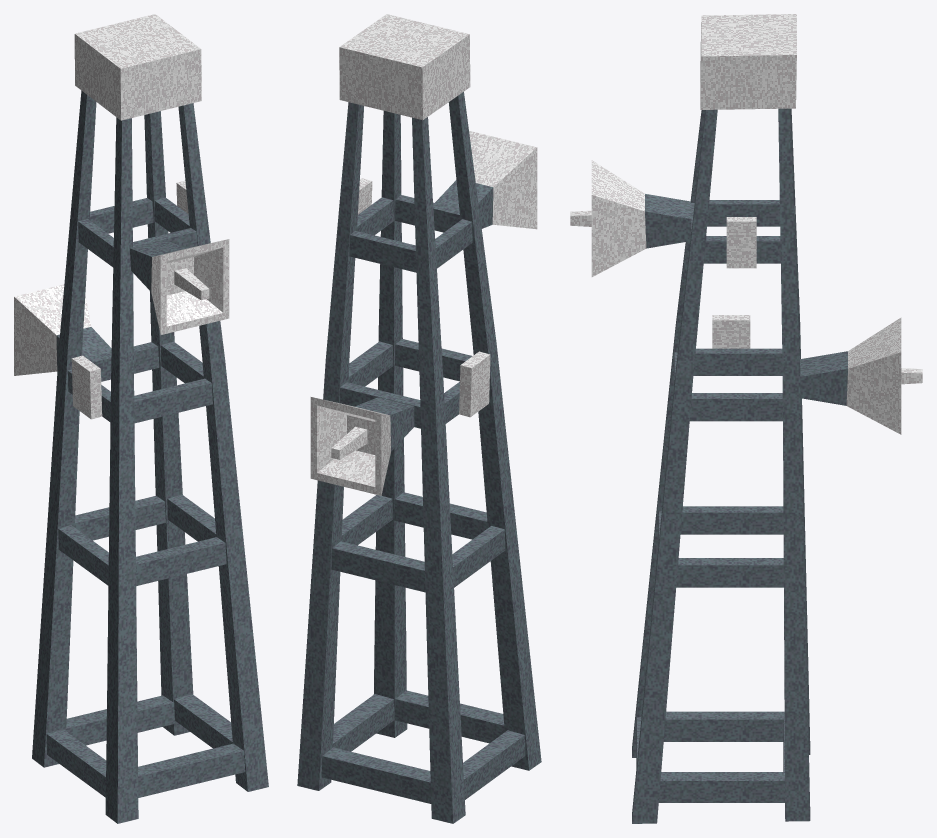
The model's file is BGN_ROOF RADIO.fbx.
The picture shows the model from 3 angles, left to right: view 1: azimuth 30°, elevation 25°; view 2: azimuth 150°, elevation 25°; view 3: azimuth 270°, elevation 25°; orthographic projection. The views are drawn at different scales.
Parts seen in each view (by area): view 1: BGN_ROOF_RADIO; view 2: BGN_ROOF_RADIO; view 3: BGN_ROOF_RADIO.
Boxes of the visible parts, box(x1,y1,x2,y2) form: BGN_ROOF_RADIO: box(14, 14, 268, 823); BGN_ROOF_RADIO: box(297, 14, 541, 823); BGN_ROOF_RADIO: box(570, 14, 922, 823).
Bounding box in the file's own units: 170 × 775 × 329.
Materials: 2 (2 with a texture image).
